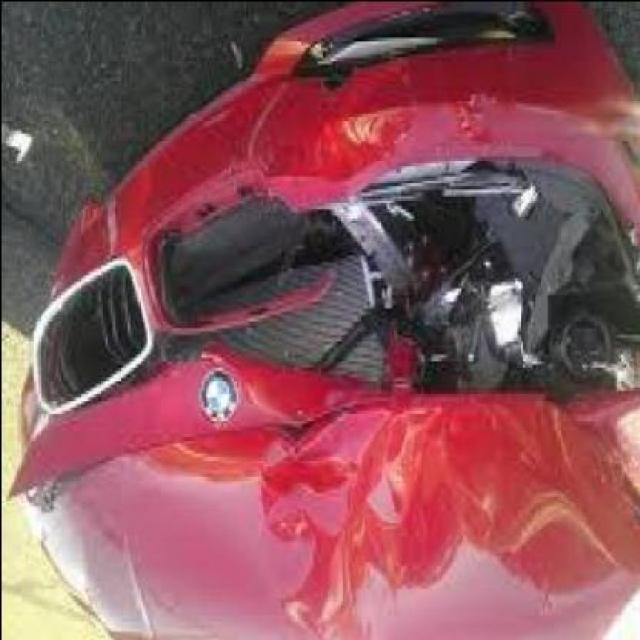damage: (10, 0, 640, 611)
